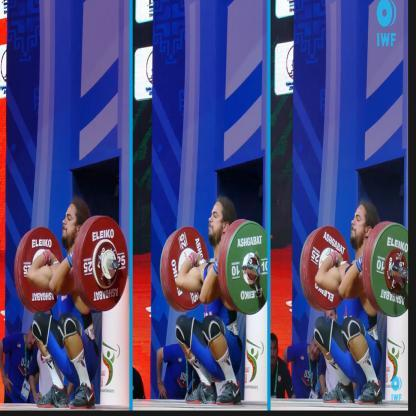Barbell: (256, 263, 264, 282), (112, 257, 120, 275), (403, 269, 410, 281)
